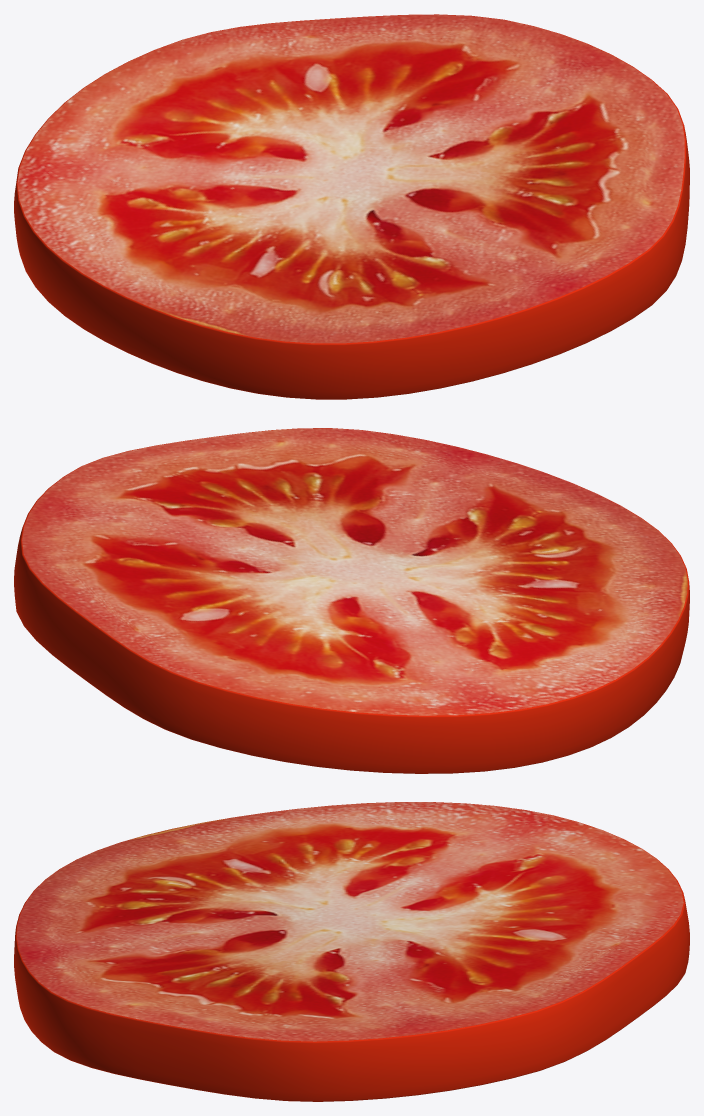
The model's file is domates1.glb.
The picture shows the model from 3 angles, top to bottom: view 1: azimuth 30°, elevation 25°; view 2: azimuth 150°, elevation 25°; view 3: azimuth 270°, elevation 25°; orthographic projection.
Visible parts, largest first — view 1: domates1; view 2: domates1; view 3: domates1.
Boxes of the visible parts, left/top/right/bottom form: domates1: left=14, top=14, right=689, bottom=399; domates1: left=14, top=428, right=689, bottom=773; domates1: left=14, top=802, right=689, bottom=1101.
Size of the model in its own units: 1.2 by 0.2206 by 1.2.
Materials: 2 (1 with a texture image).
